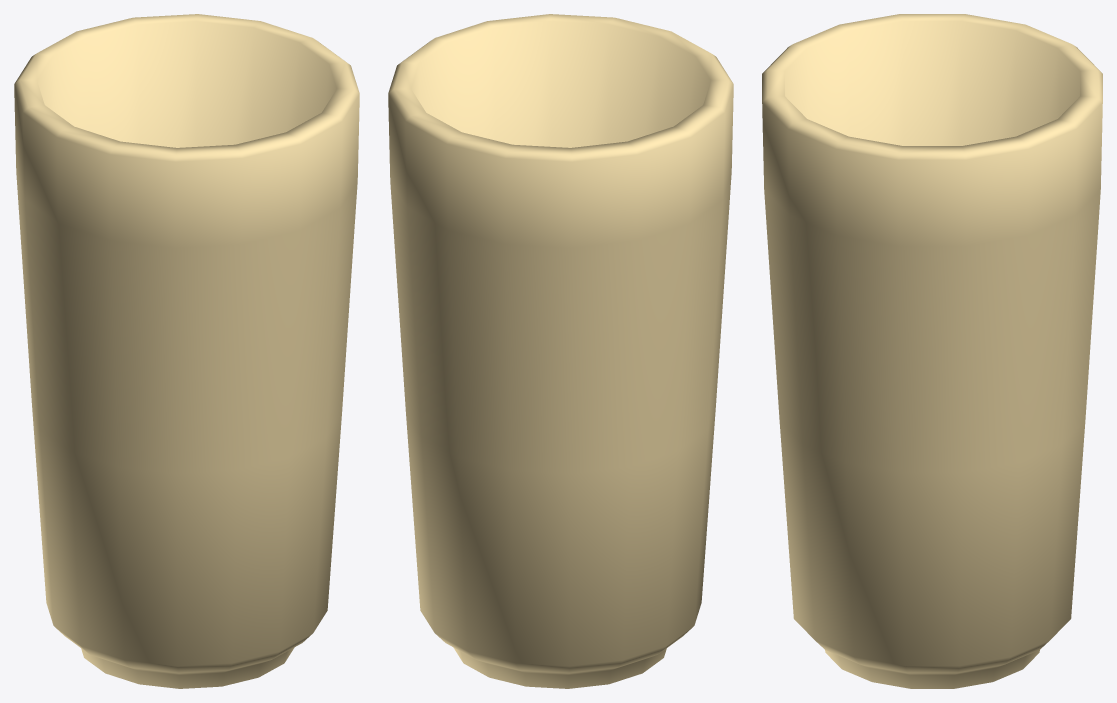
File: set de 6 puestos vaso.dae
3 renders of one model, left to right at view 1: azimuth 30°, elevation 25°; view 2: azimuth 150°, elevation 25°; view 3: azimuth 270°, elevation 25°, orthographic.
Parts seen in each view (by area): view 1: vaso; view 2: vaso; view 3: vaso.
Boxes of the visible parts, x1,y1,x2,y2 form: vaso: [14, 14, 359, 688]; vaso: [388, 14, 733, 688]; vaso: [762, 14, 1102, 688].
Size of the model in its own units: 6.08 by 6.08 by 11.02.
